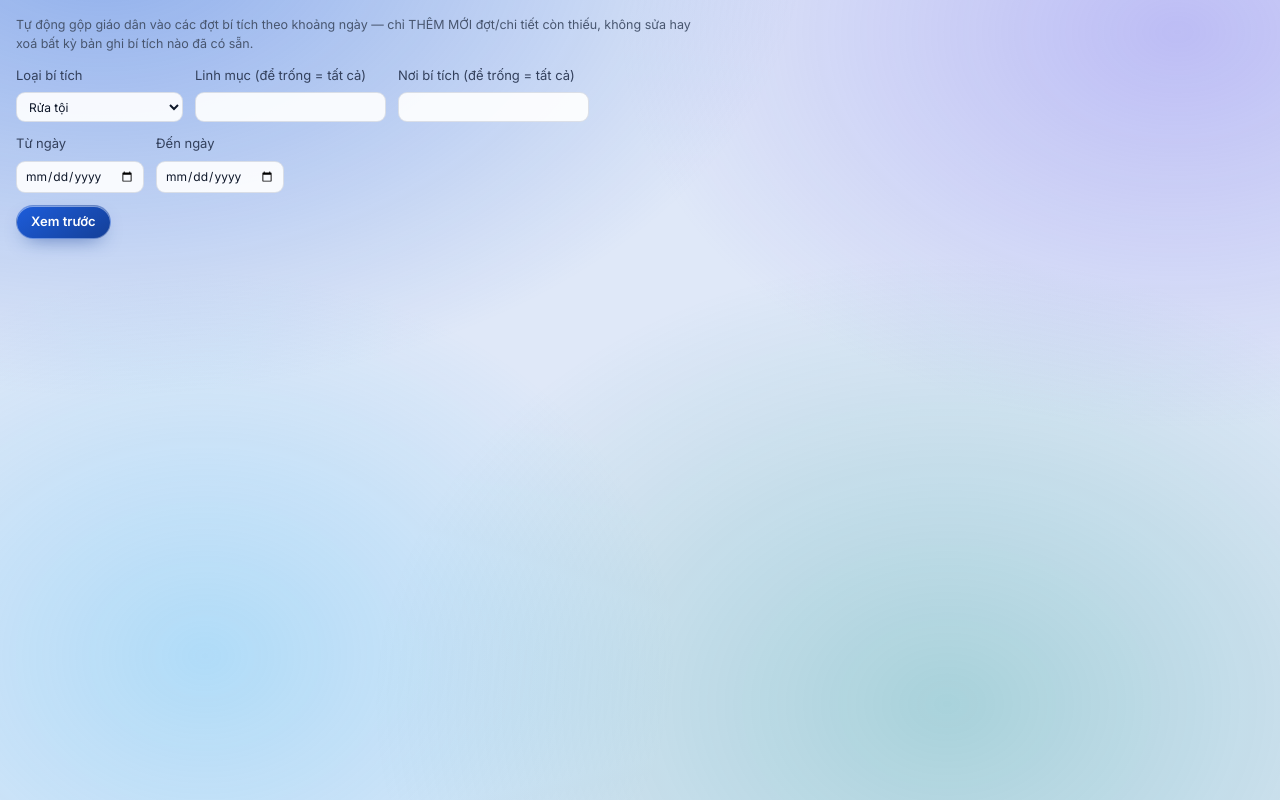
Scenario: TaoDotBiTichTuDongPage › xac nhan goi ghi that va hien ket qua
Step 1. Type "2021-03-01" into the date field labelled "Từ ngày" → (80, 176), box left=16, top=160, right=144, bottom=192
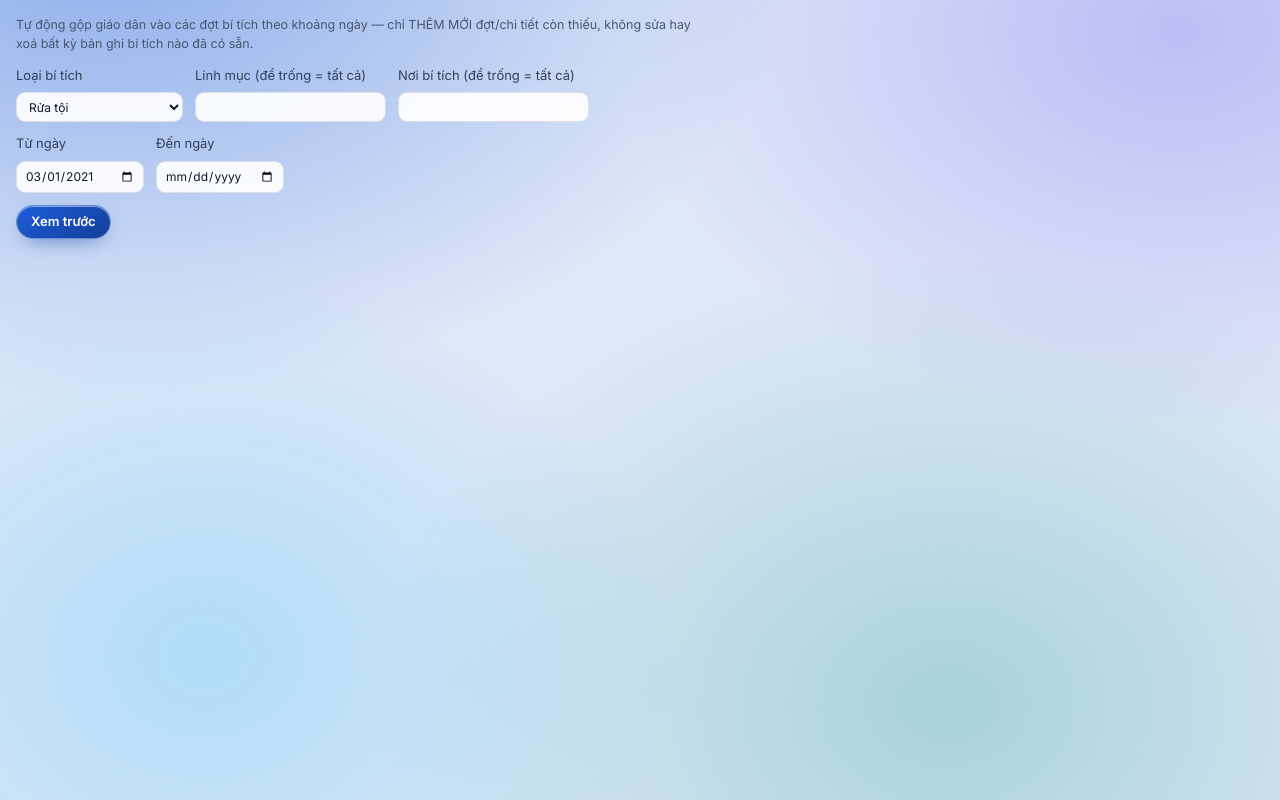
Step 2. Type "2021-03-31" into the date field labelled "Đến ngày" → (220, 176), box left=156, top=160, right=284, bottom=192
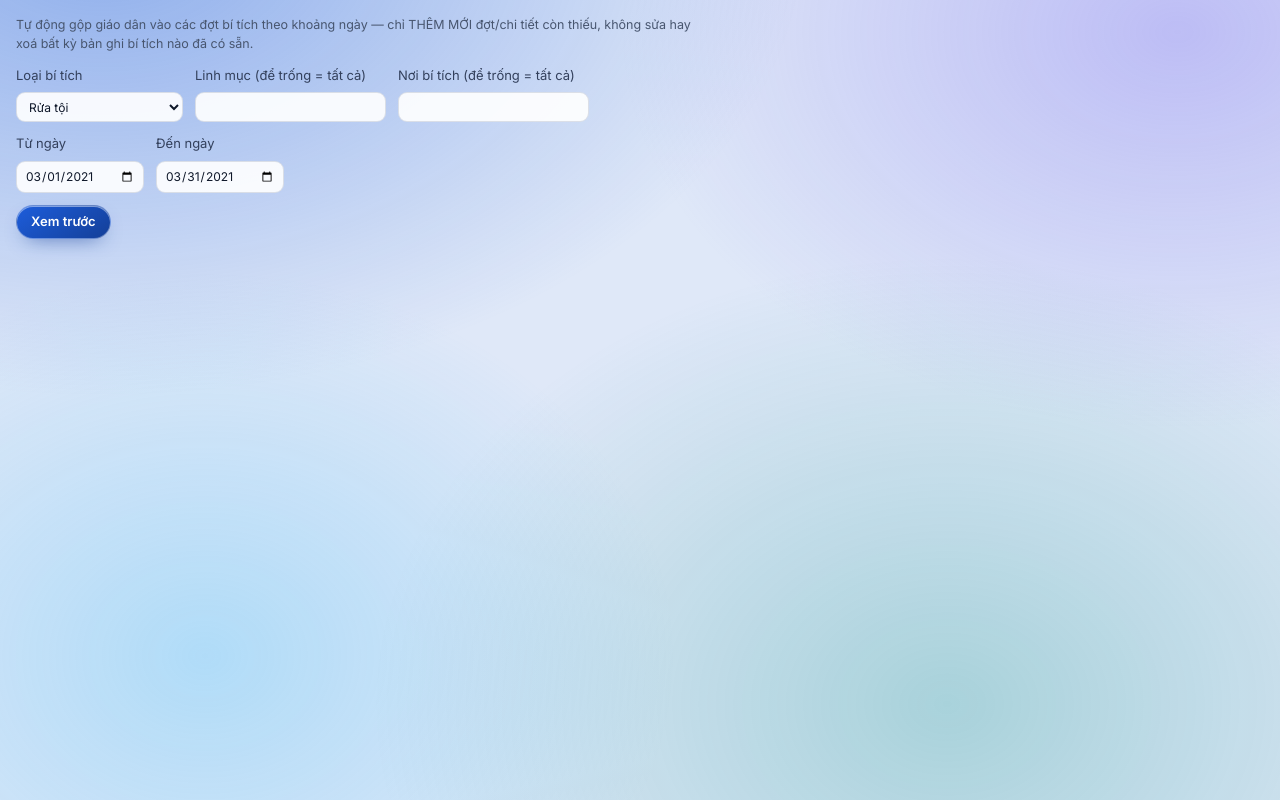
Step 3. Click the button "Xem trước" → (63, 222), box left=16, top=204, right=111, bottom=238
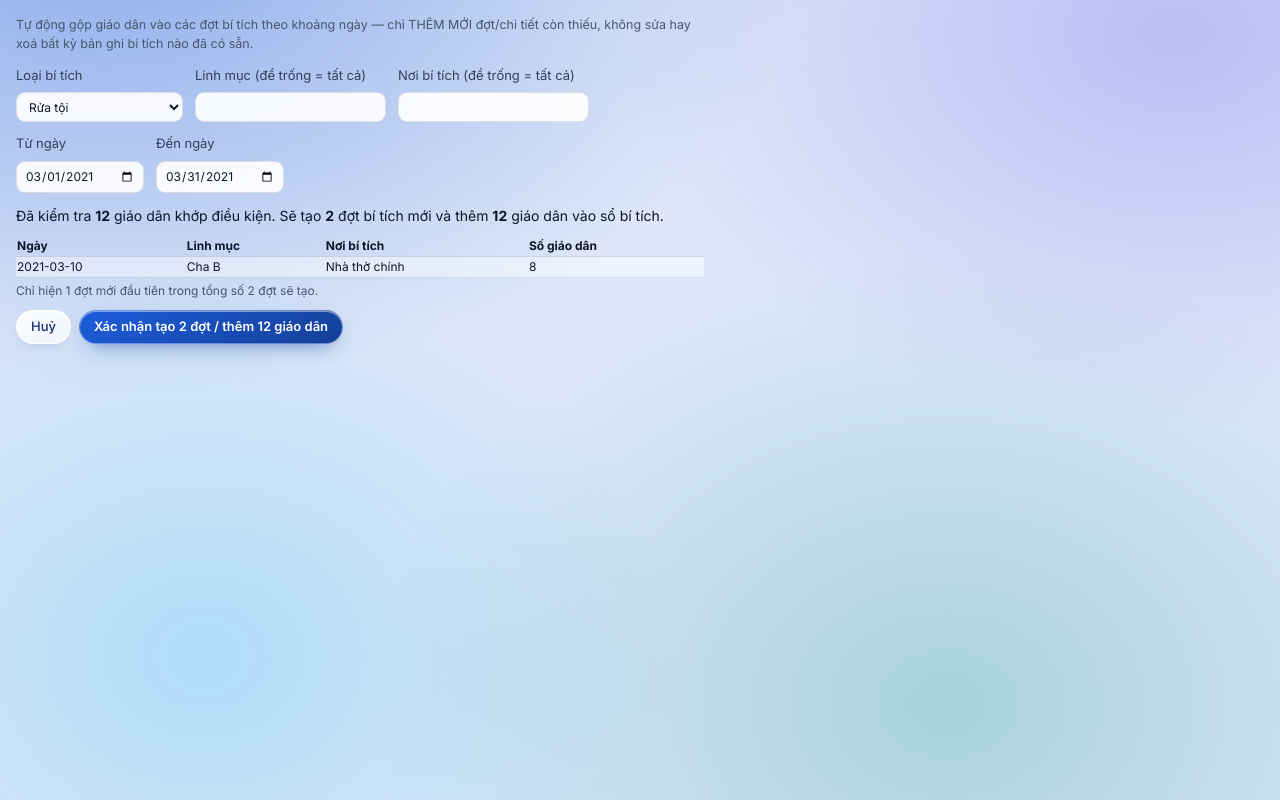
Check: the text "Cha B" is shown, box left=186, top=256, right=325, bottom=277
Step 4. Click the button "Xác nhận tạo 2 đợt / thêm 12 giáo dân" → (211, 326), box left=79, top=310, right=343, bottom=344
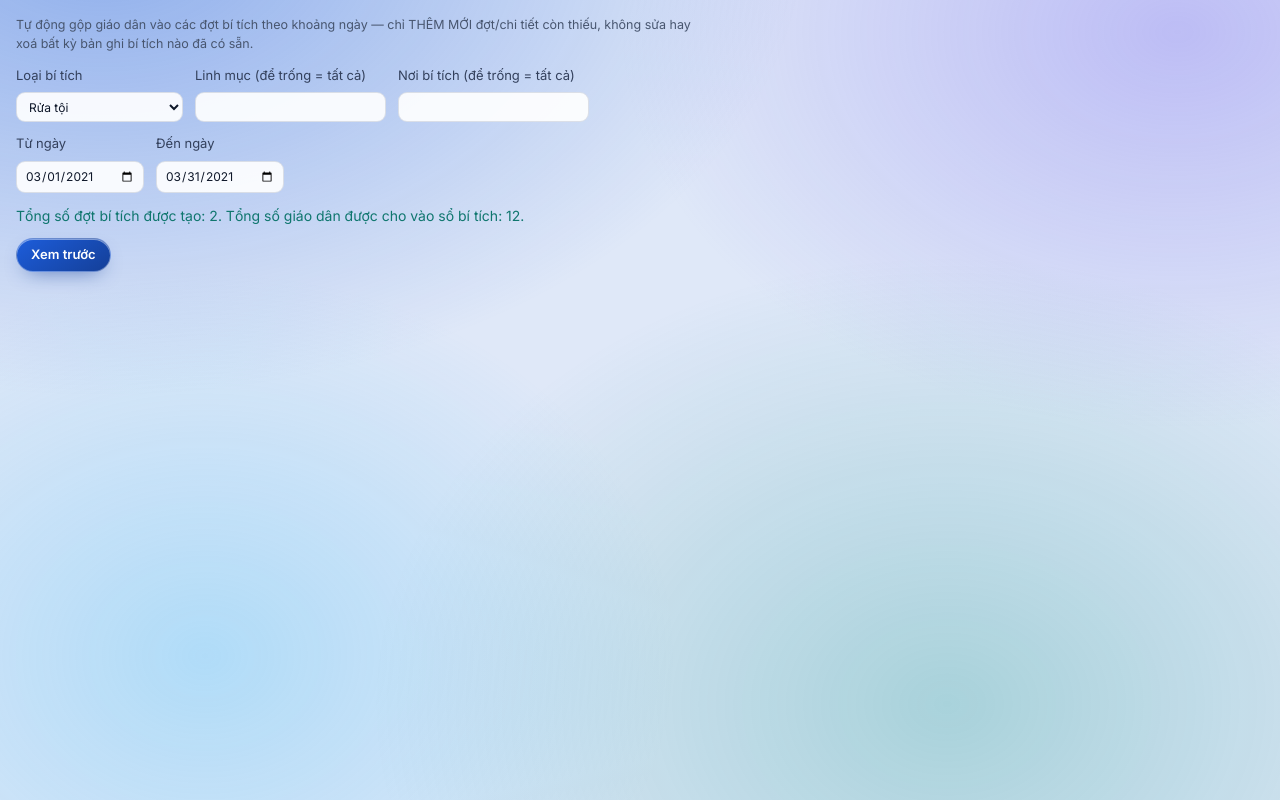
Check: the text "Tổng số đợt bí tích được tạo: 2" is shown, box left=16, top=206, right=524, bottom=224
